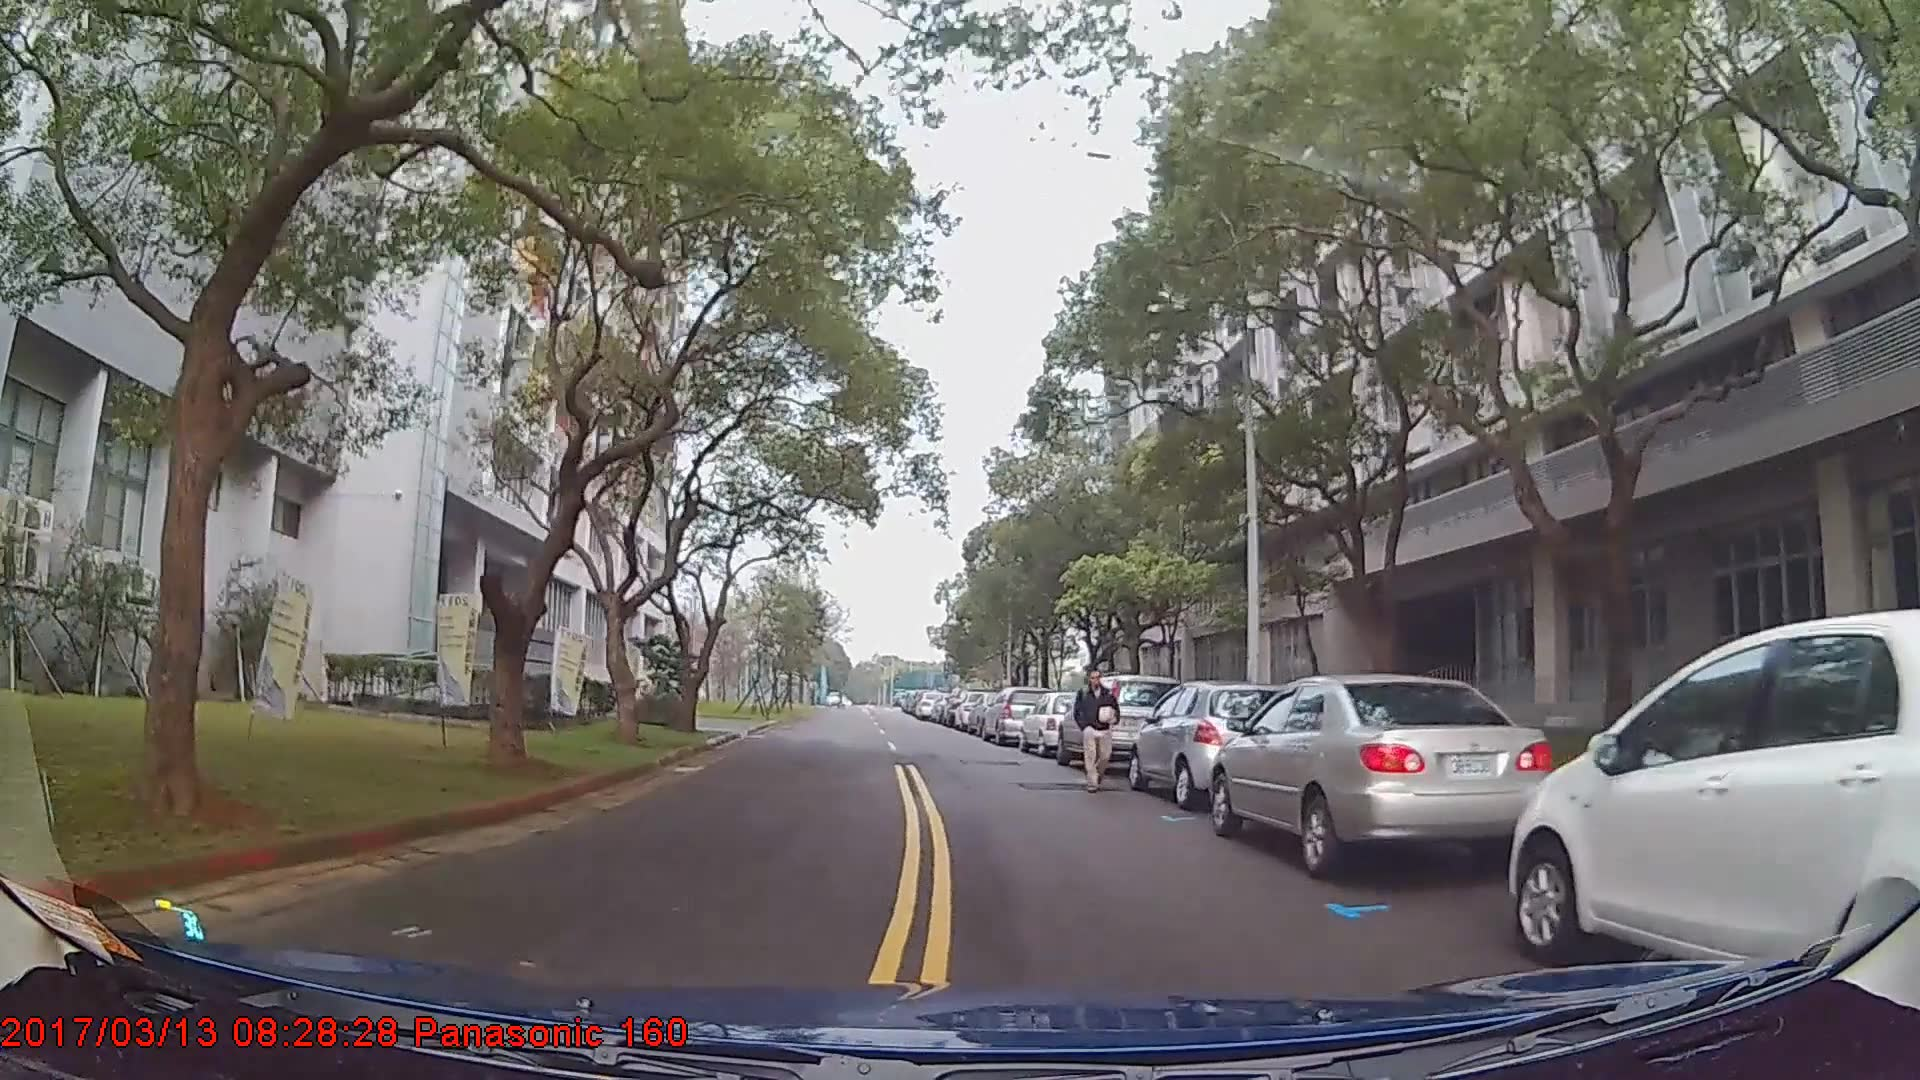pedestrian: (1075, 672, 1123, 794)
vehicle: (1510, 609, 1920, 984), (1208, 670, 1554, 881), (1128, 679, 1297, 811), (1056, 673, 1186, 775), (1017, 690, 1091, 757), (980, 685, 1055, 745)
